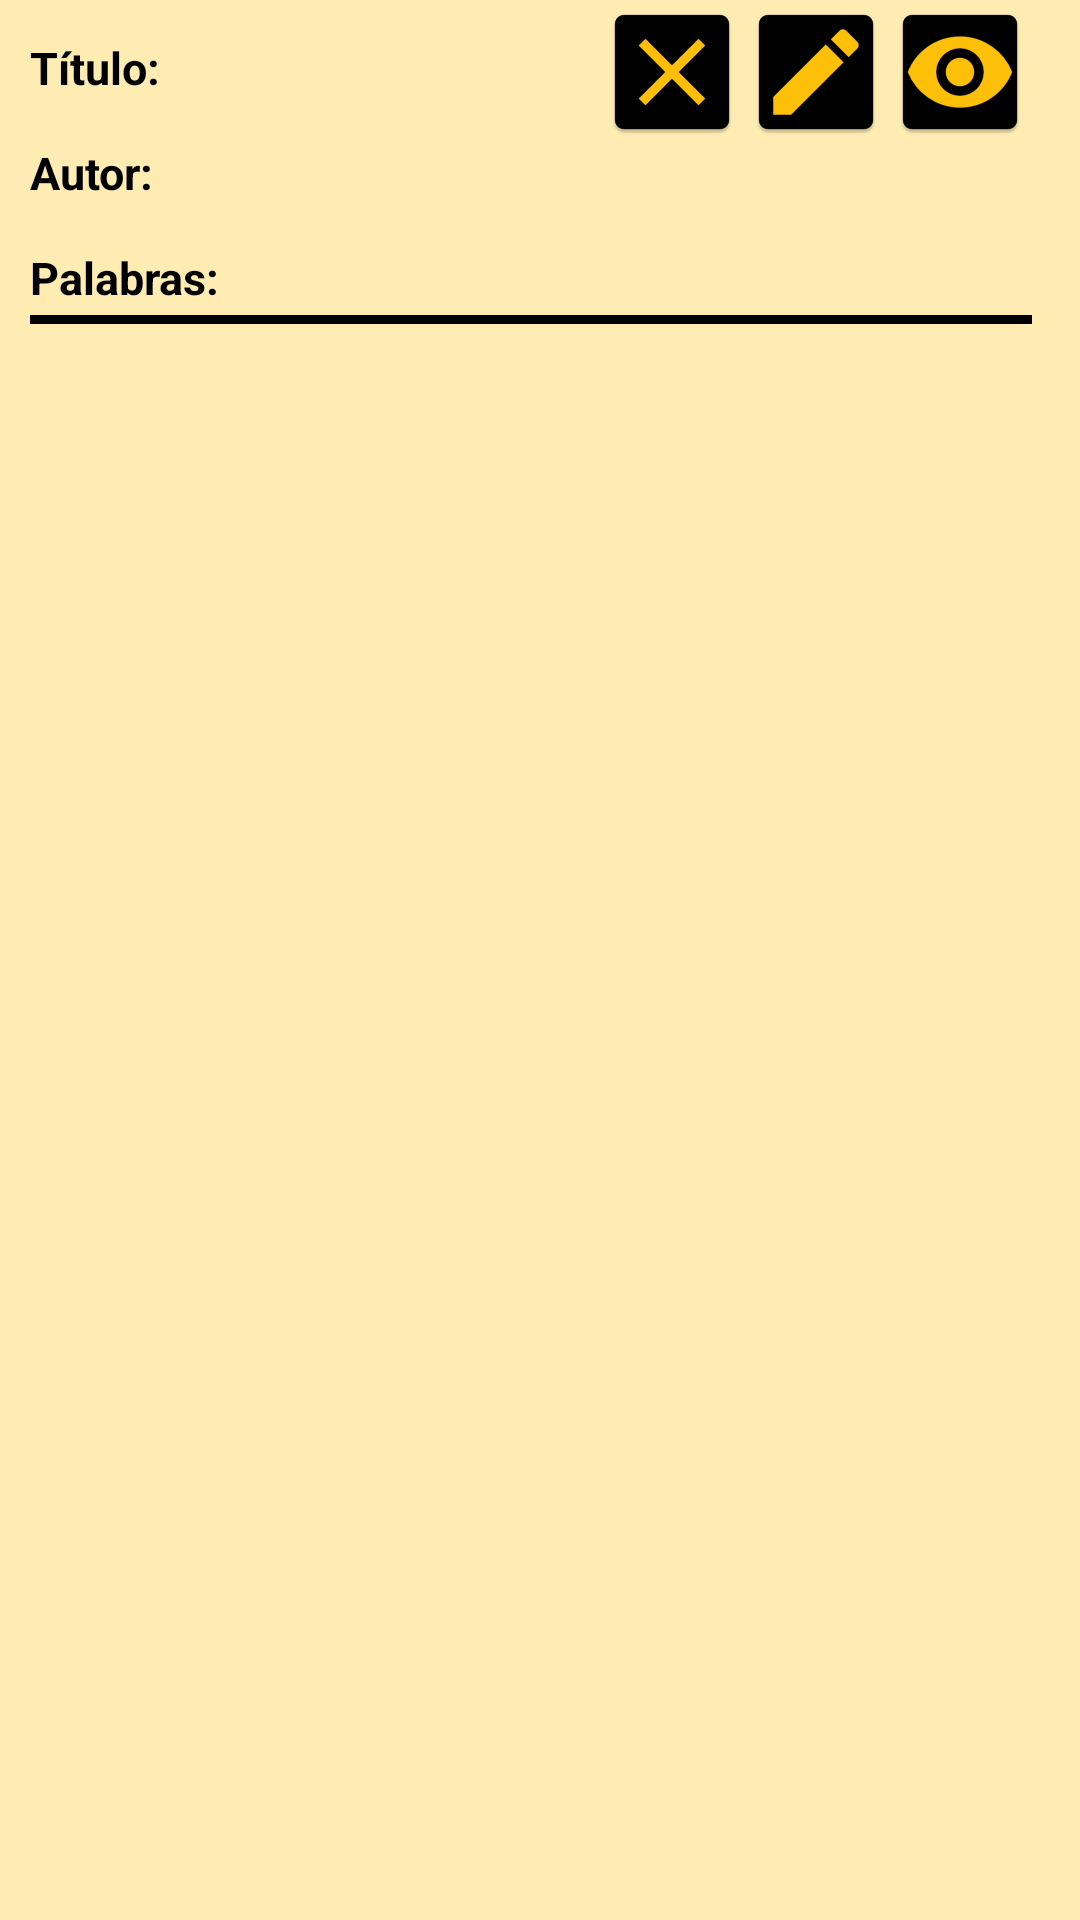

Screen size 1080*1920. Icon name, then its center in pixels as point (x, y):
delete: point (672, 73)
edit: point (816, 73)
see: point (960, 73)
